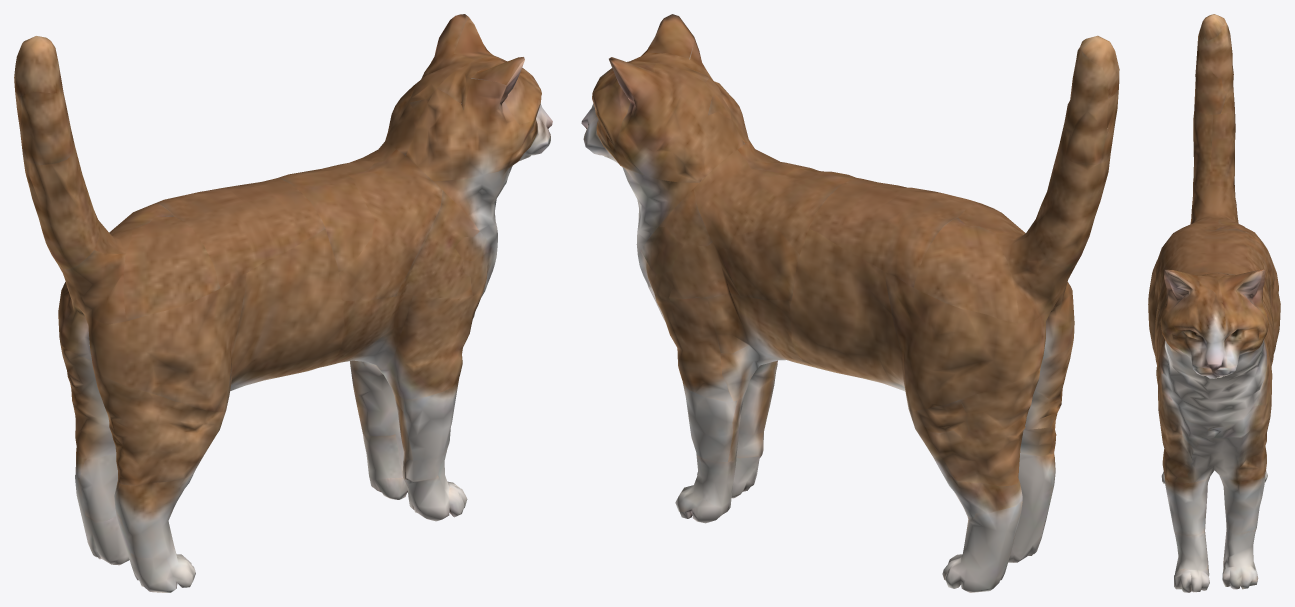
The model's file is KOTECHAN-lo.glb.
The picture shows the model from 3 angles, left to right: view 1: azimuth 30°, elevation 25°; view 2: azimuth 150°, elevation 25°; view 3: azimuth 270°, elevation 25°; orthographic projection. The views are drawn at different scales.
Parts seen in each view (by area): view 1: tripo_node_08b72cdf-73b4-4baf-aeb2-debd5a21d1c0; view 2: tripo_node_08b72cdf-73b4-4baf-aeb2-debd5a21d1c0; view 3: tripo_node_08b72cdf-73b4-4baf-aeb2-debd5a21d1c0.
Part boxes in pixels (x1,y1,x2,y2): tripo_node_08b72cdf-73b4-4baf-aeb2-debd5a21d1c0: (14, 14, 552, 592); tripo_node_08b72cdf-73b4-4baf-aeb2-debd5a21d1c0: (581, 14, 1119, 592); tripo_node_08b72cdf-73b4-4baf-aeb2-debd5a21d1c0: (1148, 14, 1280, 592).
Size of the model in its own units: 0.9975 by 0.9997 by 0.2808.
Materials: 1 (1 with a texture image).
